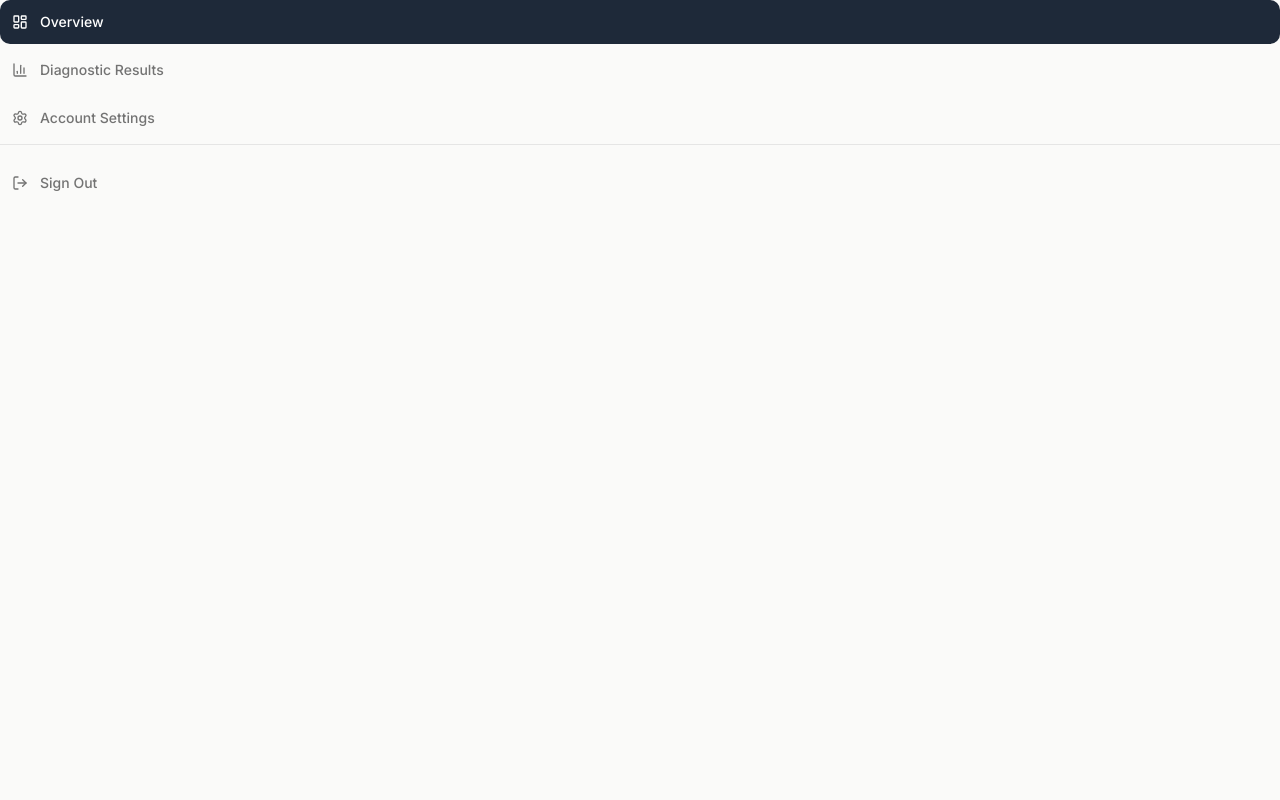
Test: DashboardNav › Logout Button › shows confirmation dialog on logout click
What coordinates should you click on to do the following:
click the button "Sign Out"
I would click on:
 (69, 182)
Its box is [0,161,1279,205].
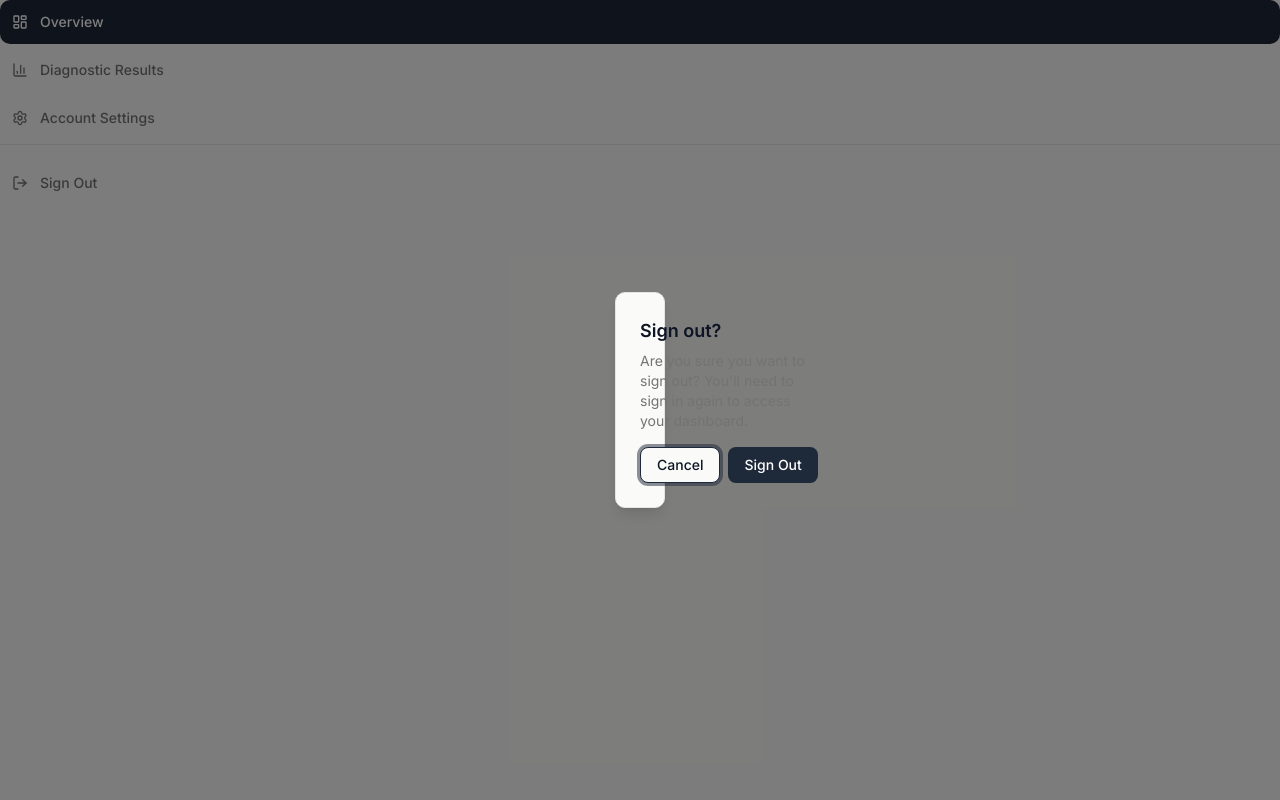
Result: the dialog is shown at [615,292,665,508]
